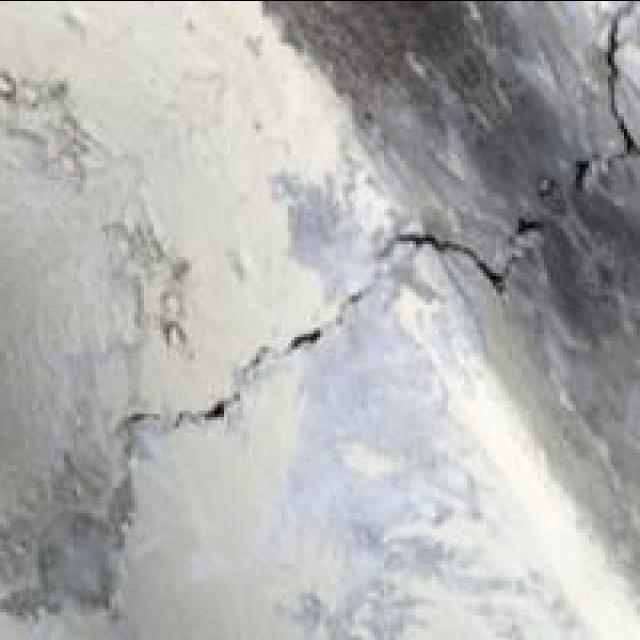SurfaceCrack: (128, 26, 640, 458)
